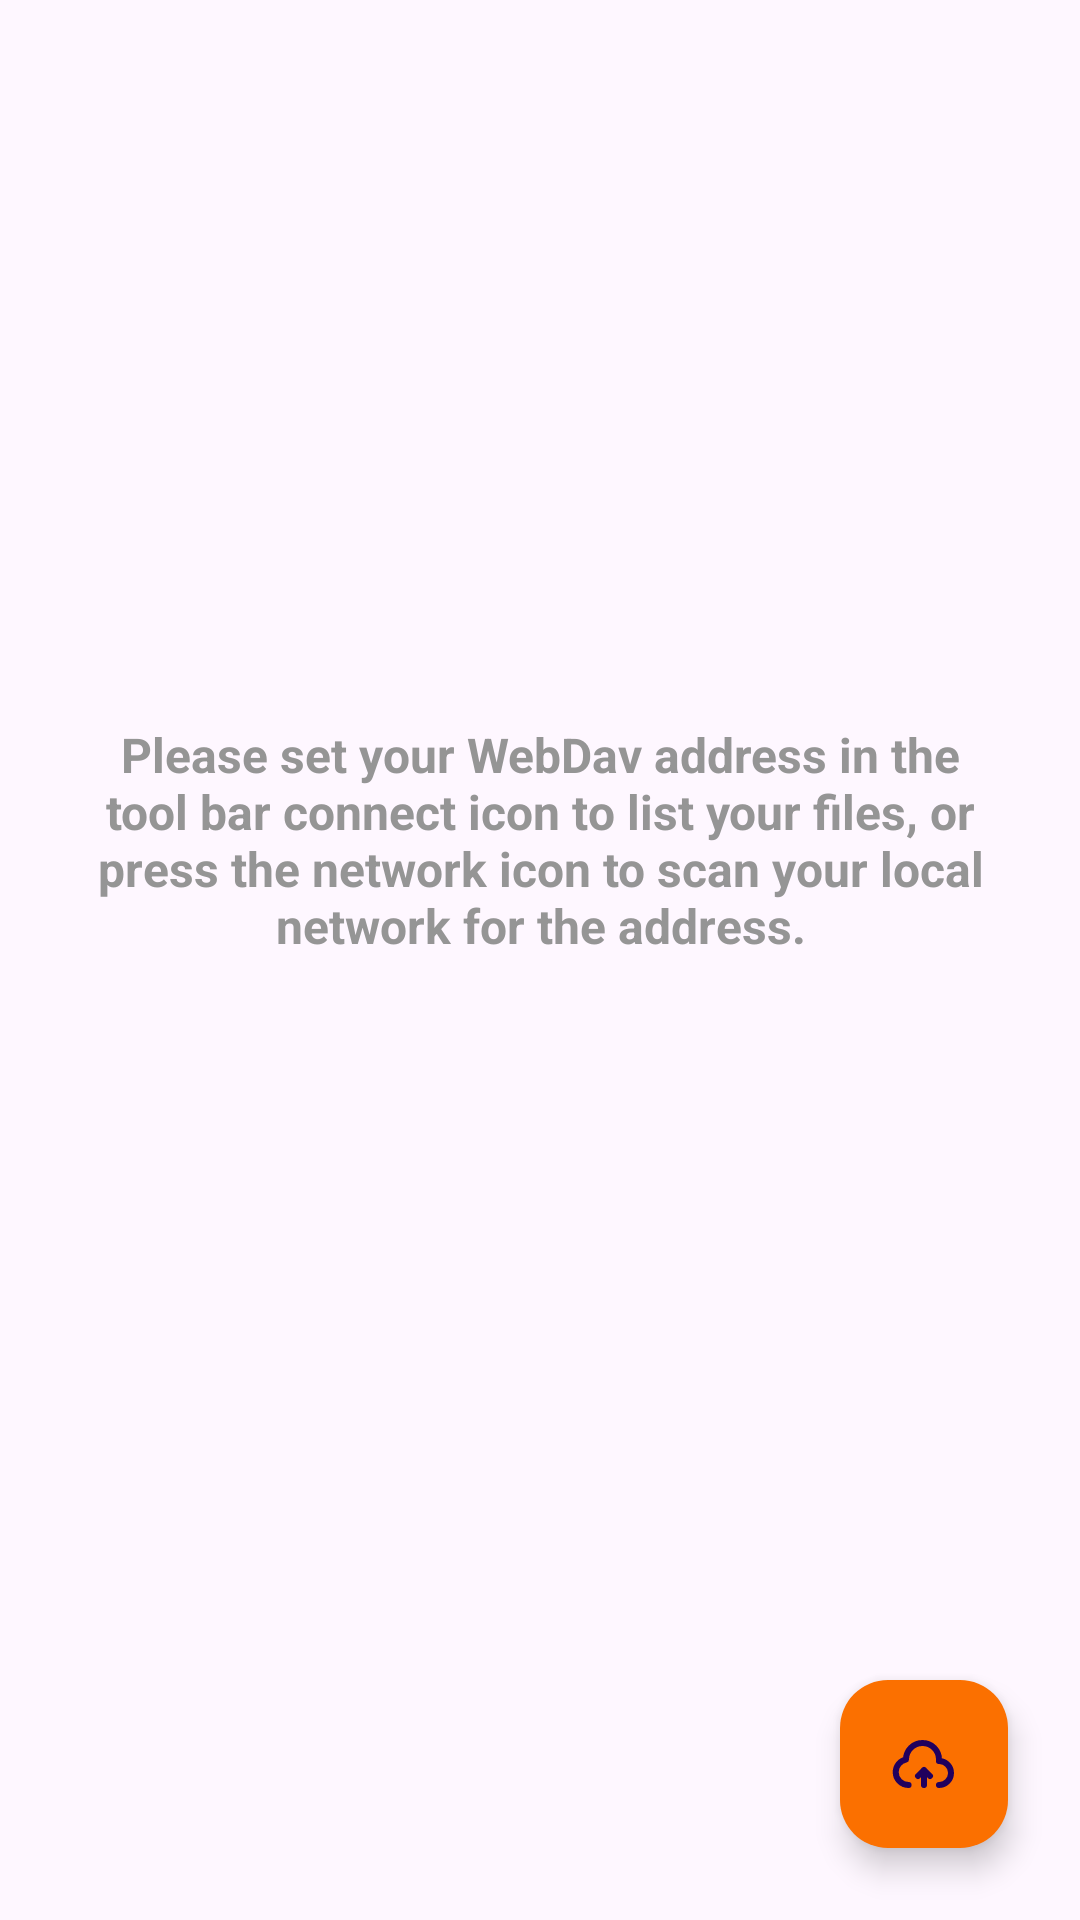

Icon click points for this 1080×1920 phone screenshot, format point (x, y):
upload: point (924, 1764)
